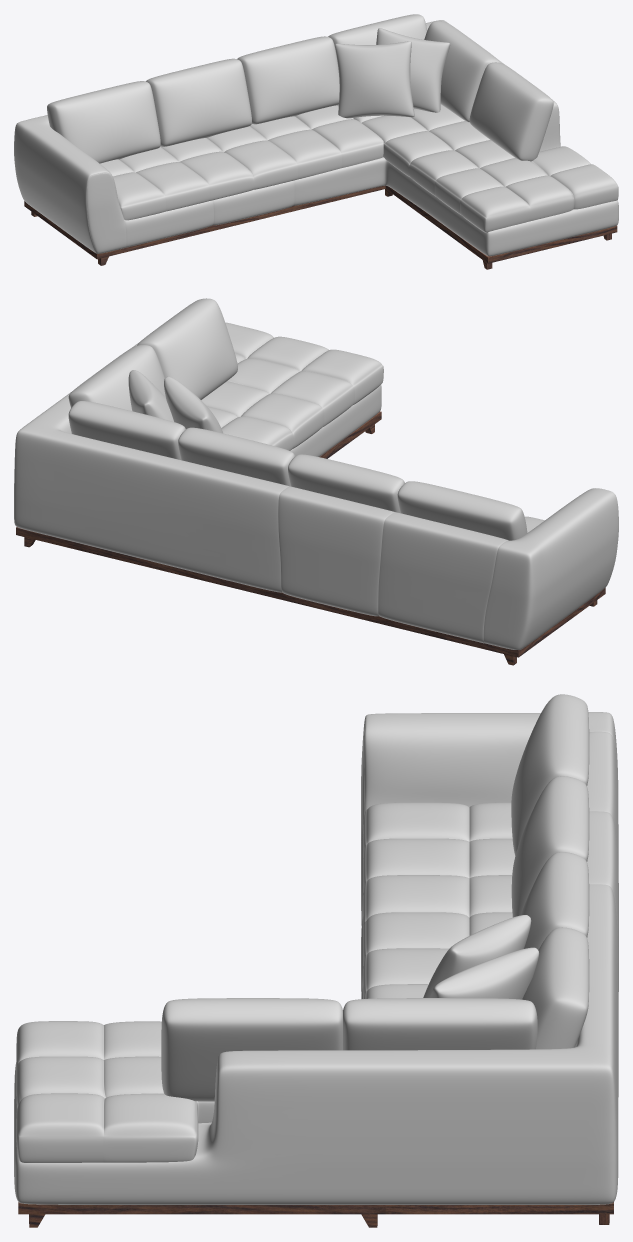
Rendered from SBH_Senart_RHShape.glb.
3 views of the same model, one above another, from view 1: azimuth 30°, elevation 25°; view 2: azimuth 150°, elevation 25°; view 3: azimuth 270°, elevation 25° (orthographic). The views are drawn at different scales.
Visible parts, largest first — view 1: Senart RHShape; view 2: Senart RHShape; view 3: Senart RHShape.
Boxes of the visible parts, box(x1,y1,x2,y2) form: Senart RHShape: box(14, 14, 618, 269); Senart RHShape: box(14, 298, 618, 665); Senart RHShape: box(14, 694, 618, 1227).
Bounding box in the file's own units: 3.4 × 0.9423 × 2.41.
Materials: 2 (1 with a texture image).
